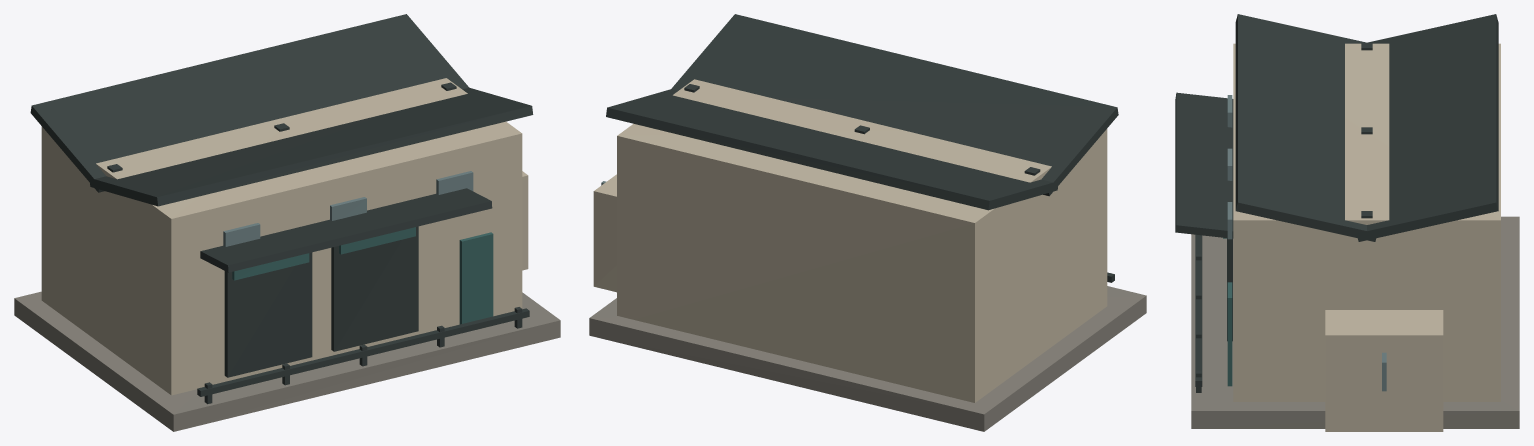
Rendered from Wholesale-Depot.glb.
3 renders of one model, left to right at view 1: azimuth 30°, elevation 25°; view 2: azimuth 150°, elevation 25°; view 3: azimuth 270°, elevation 25°, orthographic. The views are drawn at different scales.
Parts seen in each view (by area): view 1: wholesale-depot-static-wholesale-depot-charcoal-frame-and-ra, wholesale-depot-static-wholesale-depot-cream-panels, wholesale-depot-static-wholesale-depot-pale-concrete, wholesale-depot-static-wholesale-depot-muted-teal-doors, wholesale-depot-static-wholesale-depot-high-window-glass; view 2: wholesale-depot-static-wholesale-depot-cream-panels, wholesale-depot-static-wholesale-depot-charcoal-frame-and-ra, wholesale-depot-static-wholesale-depot-pale-concrete; view 3: wholesale-depot-static-wholesale-depot-cream-panels, wholesale-depot-static-wholesale-depot-charcoal-frame-and-ra, wholesale-depot-static-wholesale-depot-pale-concrete, wholesale-depot-static-wholesale-depot-high-window-glass, wholesale-depot-static-wholesale-depot-muted-teal-doors.
Boxes of the visible parts, x1,y1,x2,y2 form: wholesale-depot-static-wholesale-depot-charcoal-frame-and-ra: [30, 14, 533, 404]; wholesale-depot-static-wholesale-depot-cream-panels: [41, 78, 528, 395]; wholesale-depot-static-wholesale-depot-pale-concrete: [14, 291, 560, 431]; wholesale-depot-static-wholesale-depot-muted-teal-doors: [232, 227, 493, 324]; wholesale-depot-static-wholesale-depot-high-window-glass: [223, 171, 473, 246]; wholesale-depot-static-wholesale-depot-cream-panels: [593, 79, 1107, 402]; wholesale-depot-static-wholesale-depot-charcoal-frame-and-ra: [606, 14, 1118, 282]; wholesale-depot-static-wholesale-depot-pale-concrete: [589, 286, 1146, 431]; wholesale-depot-static-wholesale-depot-cream-panels: [1233, 43, 1500, 431]; wholesale-depot-static-wholesale-depot-charcoal-frame-and-ra: [1175, 14, 1498, 392]; wholesale-depot-static-wholesale-depot-pale-concrete: [1191, 216, 1519, 428]; wholesale-depot-static-wholesale-depot-high-window-glass: [1227, 95, 1386, 391]; wholesale-depot-static-wholesale-depot-muted-teal-doors: [1223, 237, 1232, 386].
Bounding box in the file's own units: 9.09 × 4.28 × 5.98.
